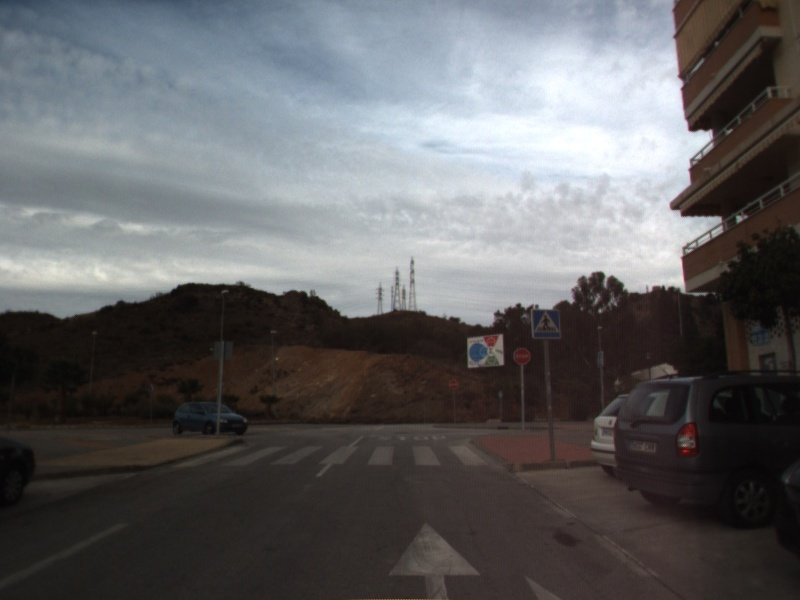STRAIGHT: (385, 518, 485, 600)
